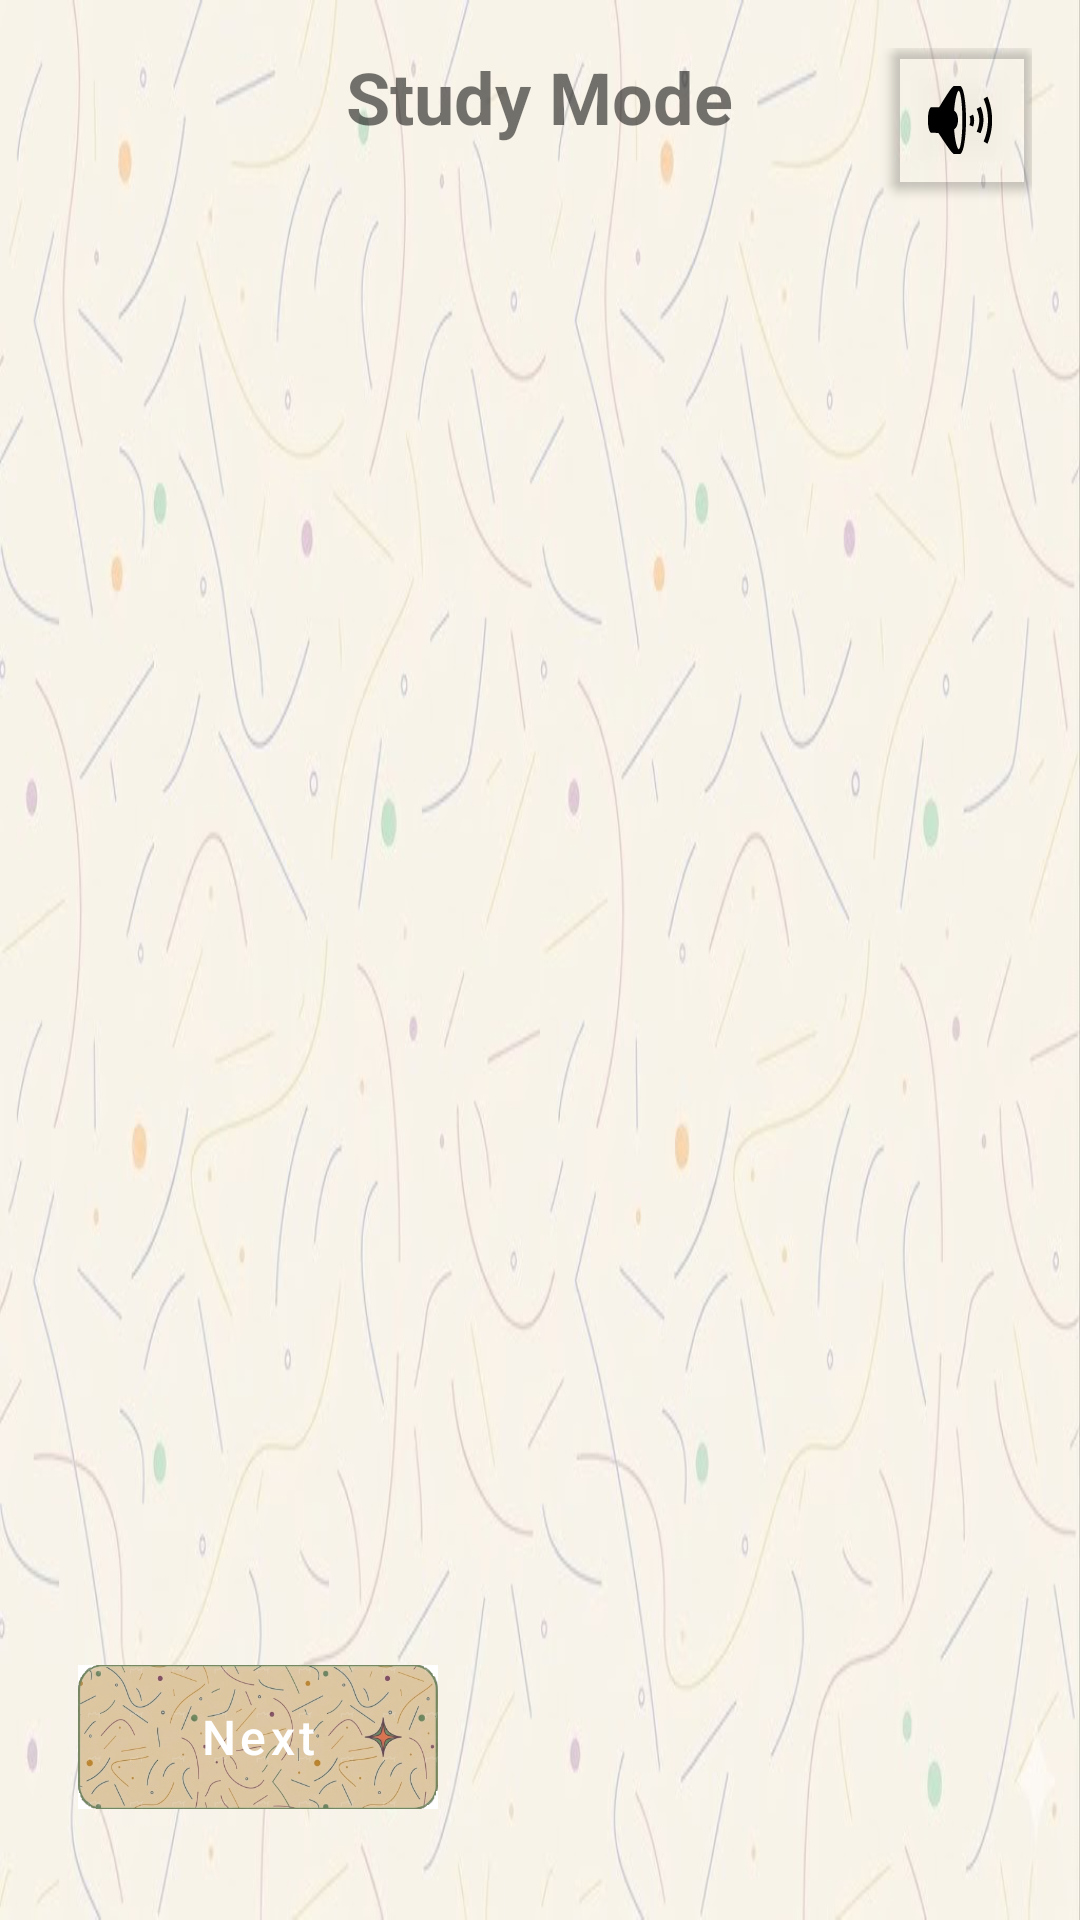

Where icons sit on this 1080*1920 app screen, as box(x1, y1, x2, y2):
lock silent mode off: box(888, 48, 1032, 192)
